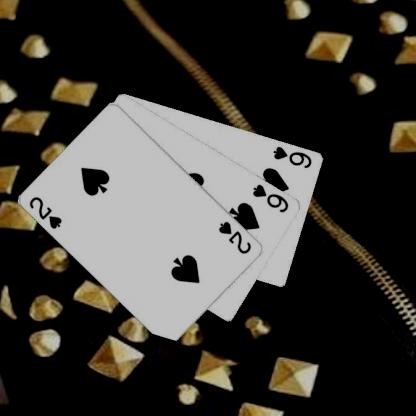2S: (216, 218, 253, 256), (26, 194, 64, 230)
6S: (250, 182, 290, 214), (270, 143, 314, 169)
